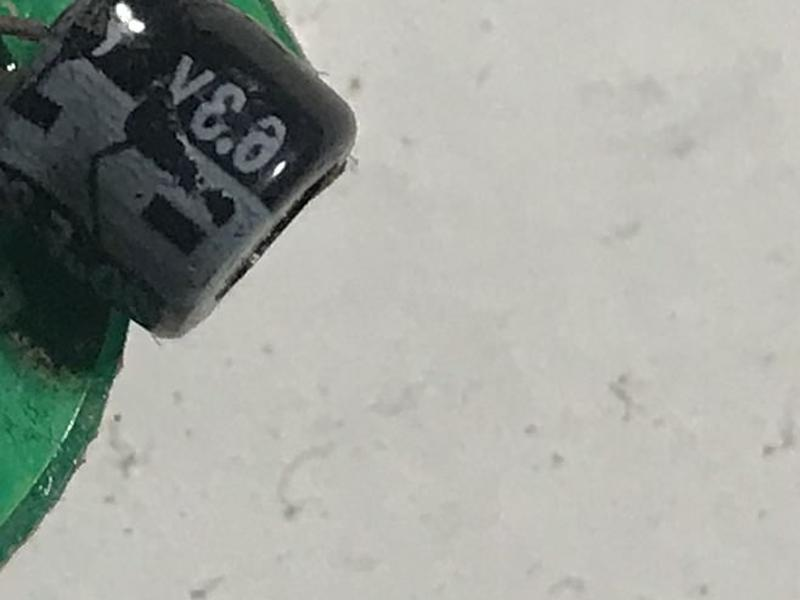Capacitor: (1, 1, 369, 352)
